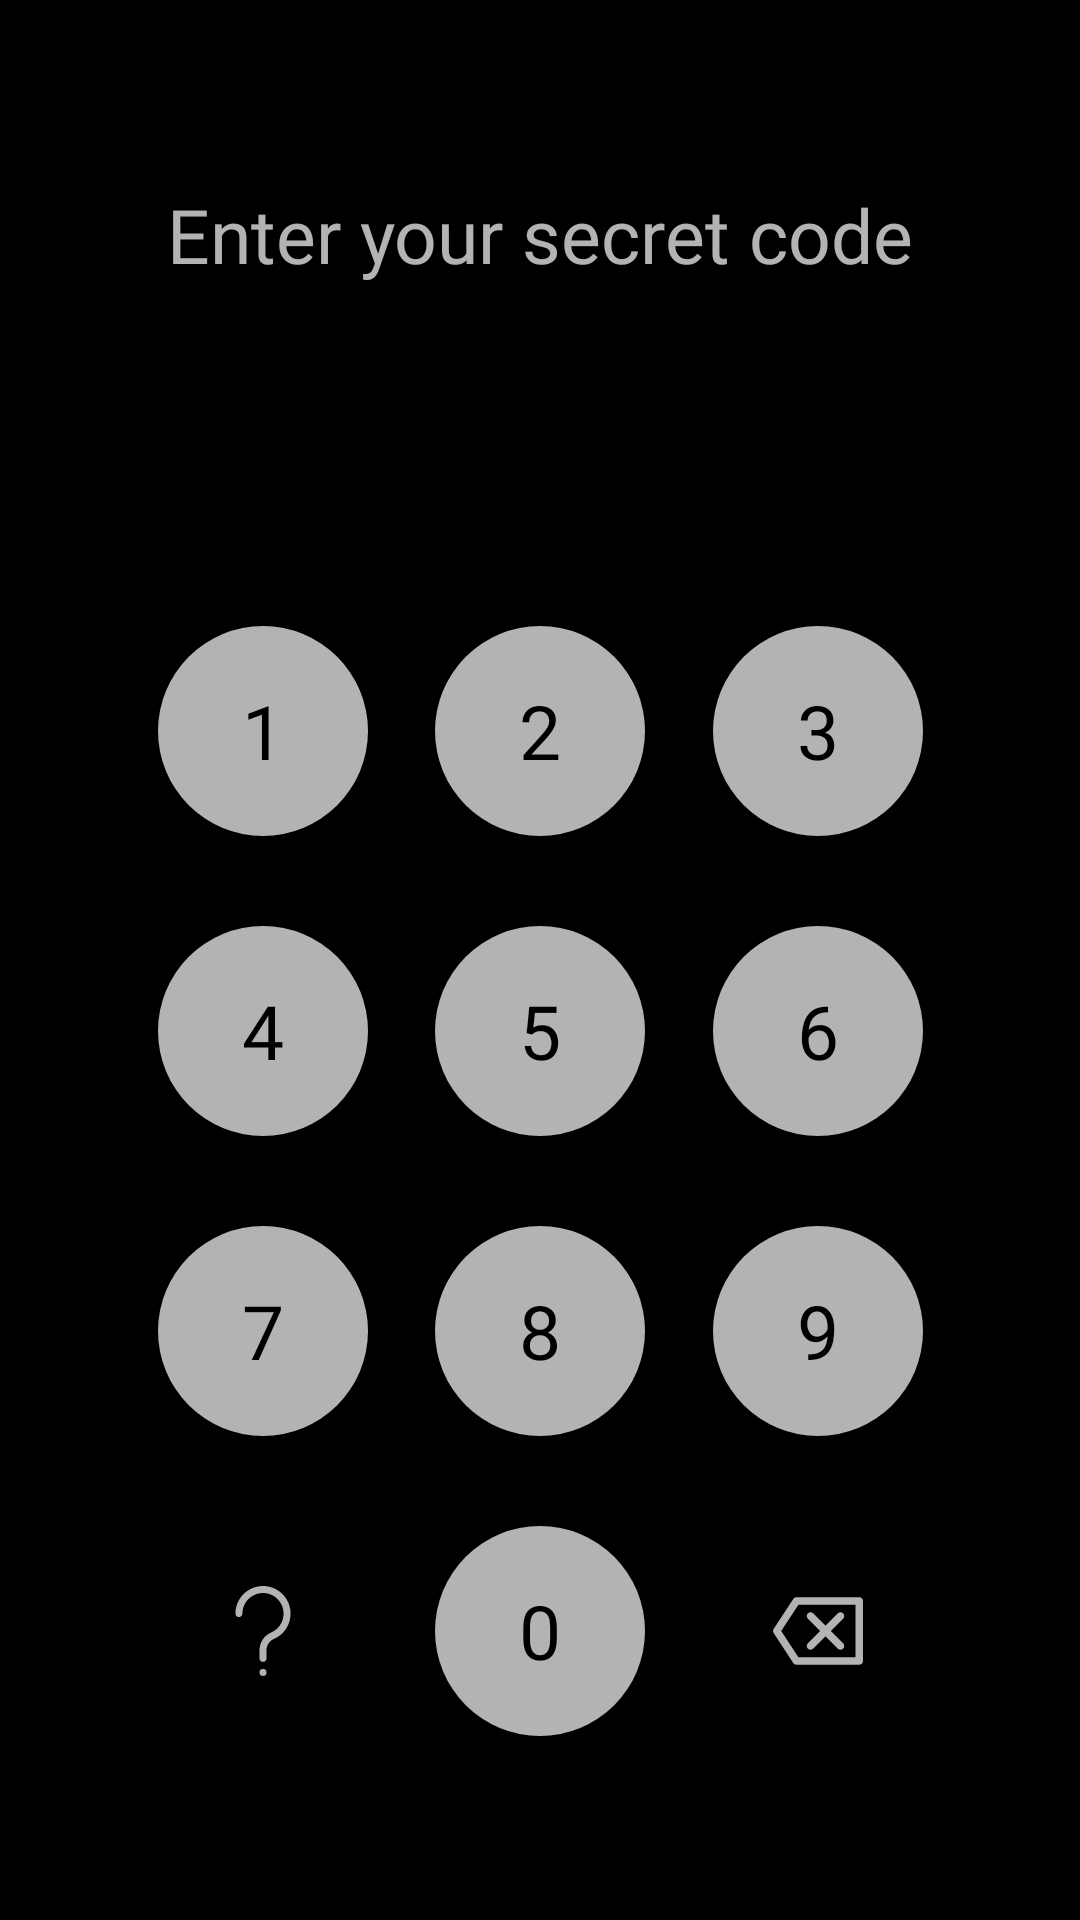

Where to tap for icons on this 1080×1920 app screen, as (x,y):
backspace: (818,1631)
help: (263,1631)
